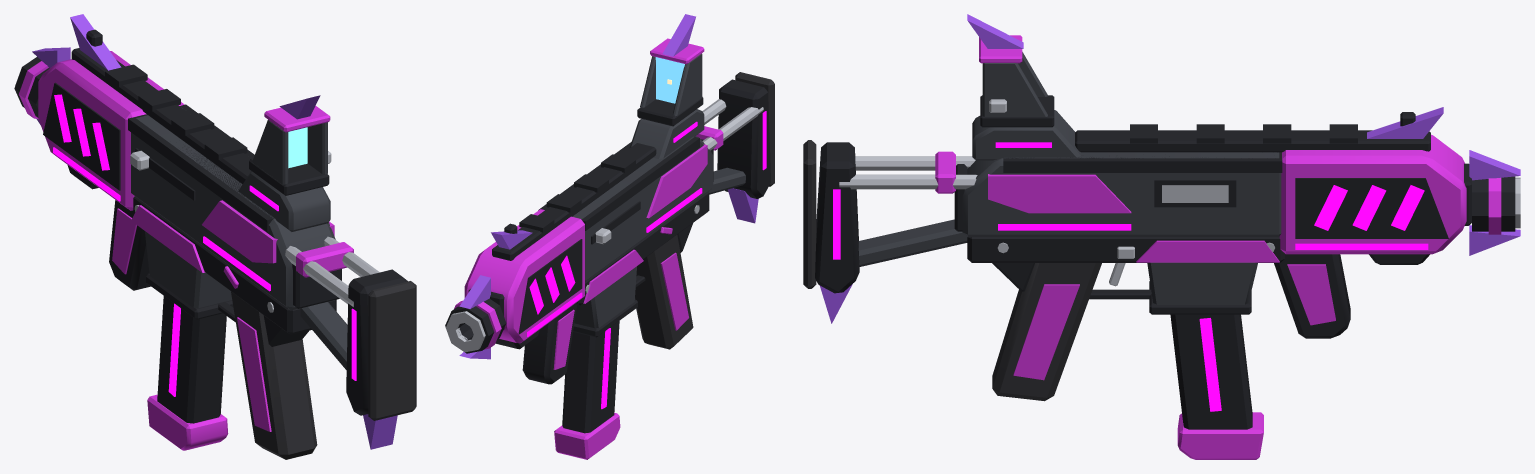
The model's file is Specter9.fbx.
3 renders of one model, left to right at view 1: azimuth 30°, elevation 25°; view 2: azimuth 150°, elevation 25°; view 3: azimuth 270°, elevation 25°, orthographic. The views are drawn at different scales.
Visible parts, largest first — view 1: Body, Grip, ButtPad, Mag, Shroud, ShroudCore, Brow, StockButt, Rail, Magwell, Lower, Riser (+36 smaller); view 2: Shroud, Body, Mag, StockButt, Grip, Rail, ShroudCore, Foregrip, Brow, Magwell, Riser, Armor (+29 smaller); view 3: Body, Shroud, Mag, ShroudCore, Grip, Rail, StockButt, Lower, Armor, Magwell, Brow, GripInlay (+28 smaller).
Boxes of the visible parts, x1,y1,x2,y2 form: Body: (131, 107, 335, 310); Grip: (231, 291, 317, 459); ButtPad: (368, 281, 416, 420); Mag: (157, 296, 226, 423); Shroud: (38, 51, 184, 210); ShroudCore: (43, 82, 120, 190); Brow: (128, 104, 274, 231); StockButt: (346, 269, 407, 415); Rail: (71, 48, 250, 183); Magwell: (145, 231, 232, 308); Lower: (133, 196, 336, 334); Riser: (238, 171, 330, 231); Shroud: (464, 209, 584, 343); Body: (572, 136, 713, 281); Mag: (562, 321, 619, 433); StockButt: (717, 79, 770, 198); Grip: (635, 235, 693, 349); Rail: (492, 143, 656, 260); ShroudCore: (518, 239, 582, 334); Foregrip: (522, 303, 576, 384); Brow: (538, 136, 699, 230); Magwell: (574, 266, 636, 328); Riser: (629, 109, 704, 158); Armor: (646, 144, 707, 218); Body: (962, 152, 1281, 237); Shroud: (1279, 134, 1466, 254); Mag: (1170, 314, 1252, 429); ShroudCore: (1295, 178, 1448, 238); Grip: (992, 263, 1101, 401); Rail: (1075, 130, 1430, 152); StockButt: (815, 142, 859, 293); Lower: (967, 237, 1284, 262); Armor: (988, 174, 1131, 213); Magwell: (1147, 262, 1257, 304); Brow: (1003, 152, 1282, 172); GripInlay: (1013, 284, 1079, 380).
Bounding box in the file's own units: 0.325 × 1.87 × 2.8.
